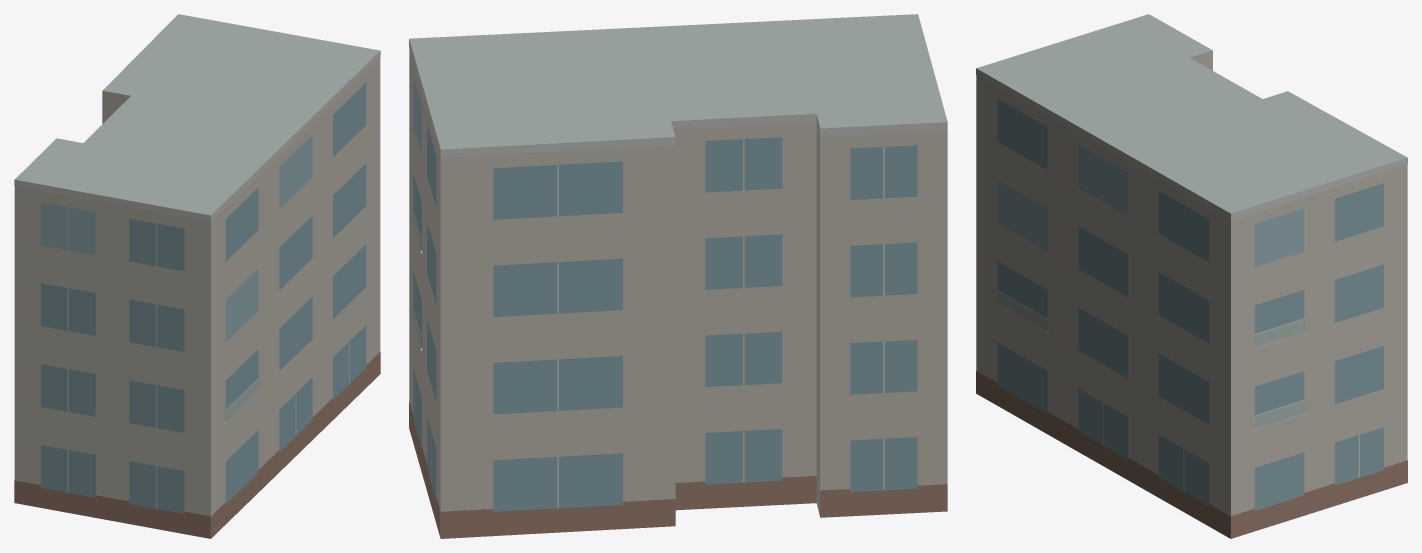
The model's file is survey-upis-32502516.glb.
3 views of the same model, side by side, from view 1: azimuth 30°, elevation 25°; view 2: azimuth 150°, elevation 25°; view 3: azimuth 270°, elevation 25° (orthographic). The views are drawn at different scales.
Visible parts, largest first — view 1: survey-upis-32502516.tmp; view 2: survey-upis-32502516.tmp; view 3: survey-upis-32502516.tmp.
Boxes of the visible parts, <box> form: survey-upis-32502516.tmp: <box>14,14,380,538</box>; survey-upis-32502516.tmp: <box>409,14,947,538</box>; survey-upis-32502516.tmp: <box>976,14,1407,538</box>.
Size of the model in its own units: 15.41 by 11.7 by 14.08.
